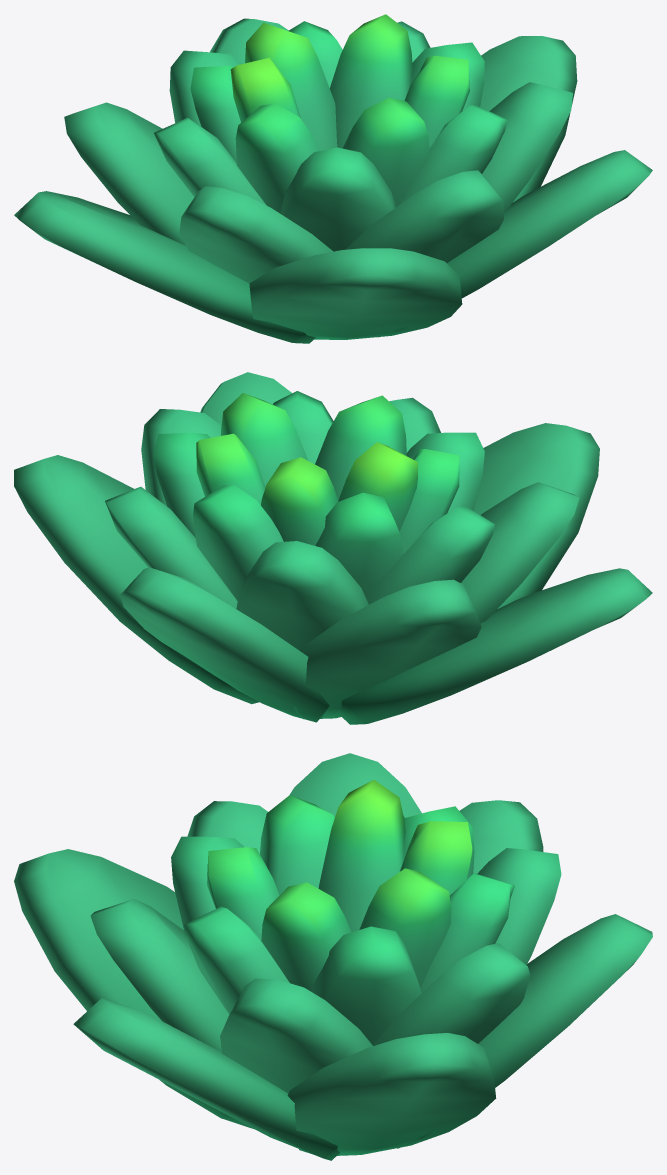
The model's file is salad.fbx.
3 renders of one model, top to bottom at view 1: azimuth 30°, elevation 25°; view 2: azimuth 150°, elevation 25°; view 3: azimuth 270°, elevation 25°, orthographic. The views are drawn at different scales.
Parts seen in each view (by area): view 1: salad; view 2: salad; view 3: salad.
Part boxes in pixels (x1,y1,x2,y2): salad: (14, 14, 652, 343); salad: (14, 372, 652, 724); salad: (14, 753, 652, 1160).
Size of the model in its own units: 3.44 by 1.57 by 2.92.
Materials: 1 (1 with a texture image).
